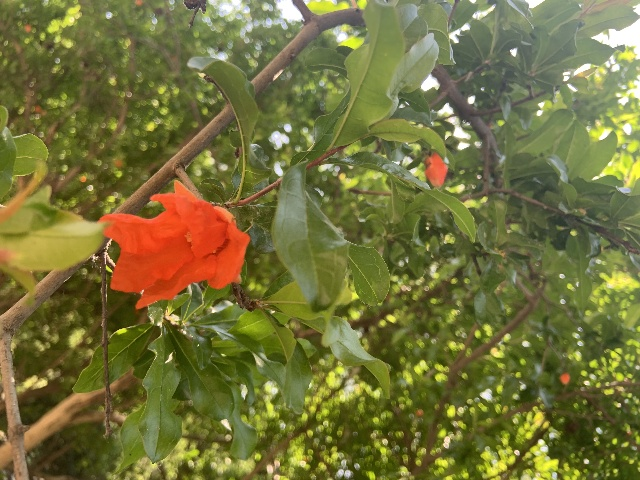bud: (424, 152, 447, 188)
flower: (99, 179, 247, 309)
